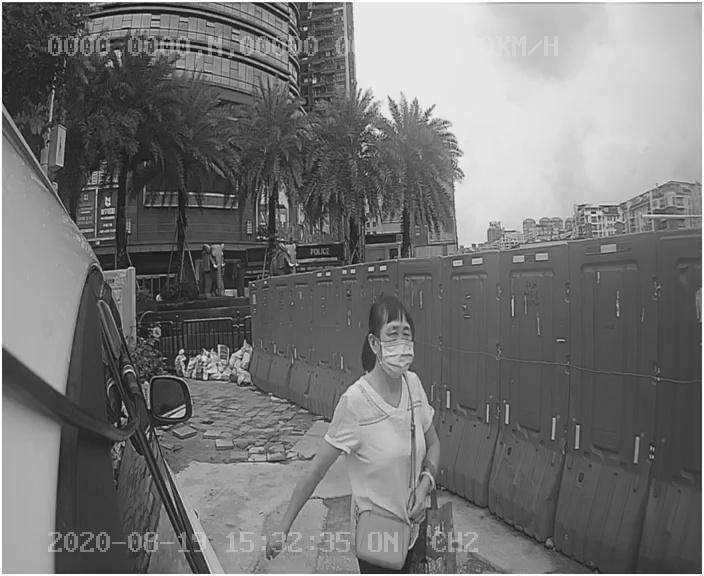person: (254, 288, 470, 529)
